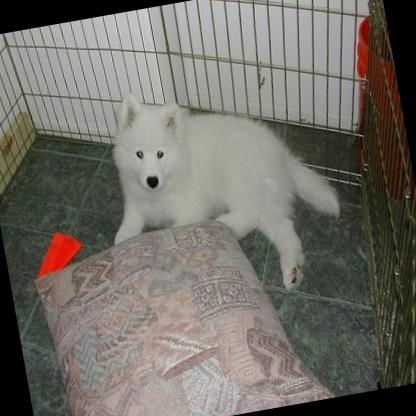Samoyed: (87, 59, 353, 318)
